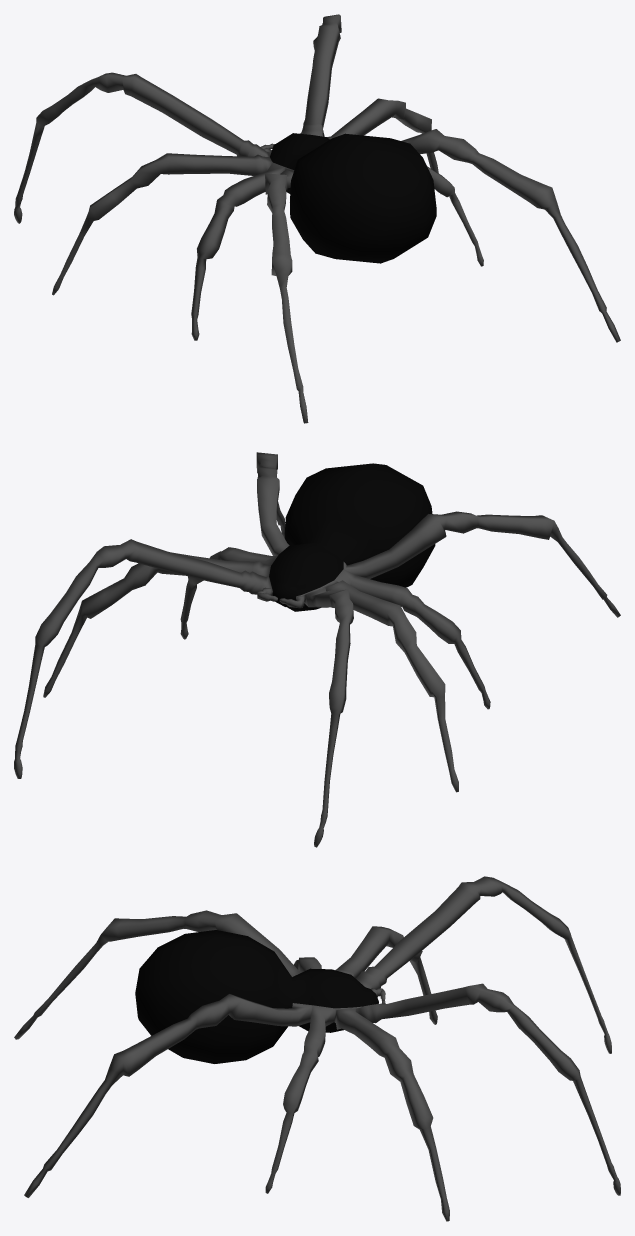
File: spider.fbx
3 views of the same model, one above another, from view 1: azimuth 30°, elevation 25°; view 2: azimuth 150°, elevation 25°; view 3: azimuth 270°, elevation 25° (orthographic). The views are drawn at different scales.
Parts seen in each view (by area): view 1: spider; view 2: spider; view 3: spider.
Part boxes in pixels (x1,y1,x2,y2): spider: (14, 14, 620, 423); spider: (14, 452, 620, 847); spider: (14, 876, 620, 1221).
Bounding box in the file's own units: 171 × 77 × 220.
